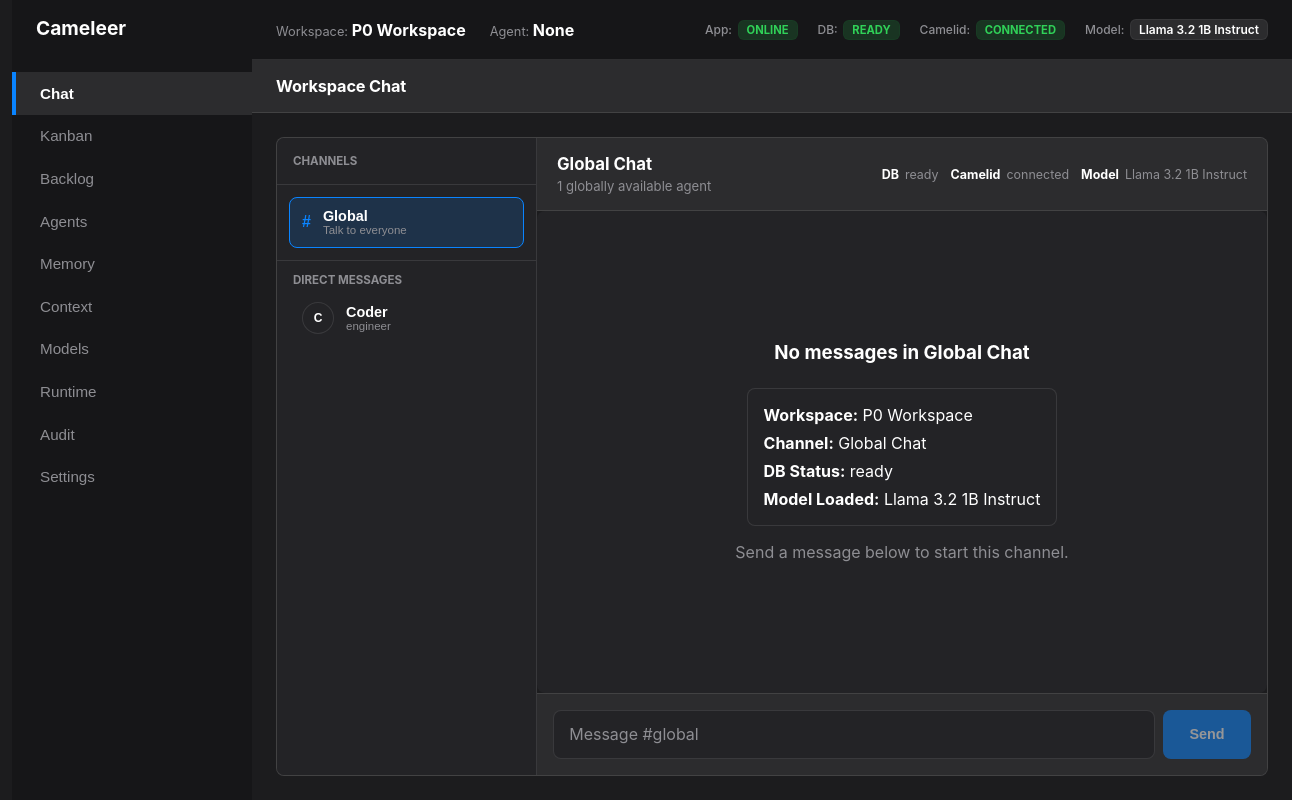
App component › renders global and direct agent chat channels
Expected: the text "Global" is shown, top-left (323, 208), bottom-right (368, 224)
Expected: the text "Talk to everyone" is shown, top-left (323, 224), bottom-right (407, 236)
Click the button "C Coder engineer": (406, 318) top-left (289, 291), bottom-right (524, 346)
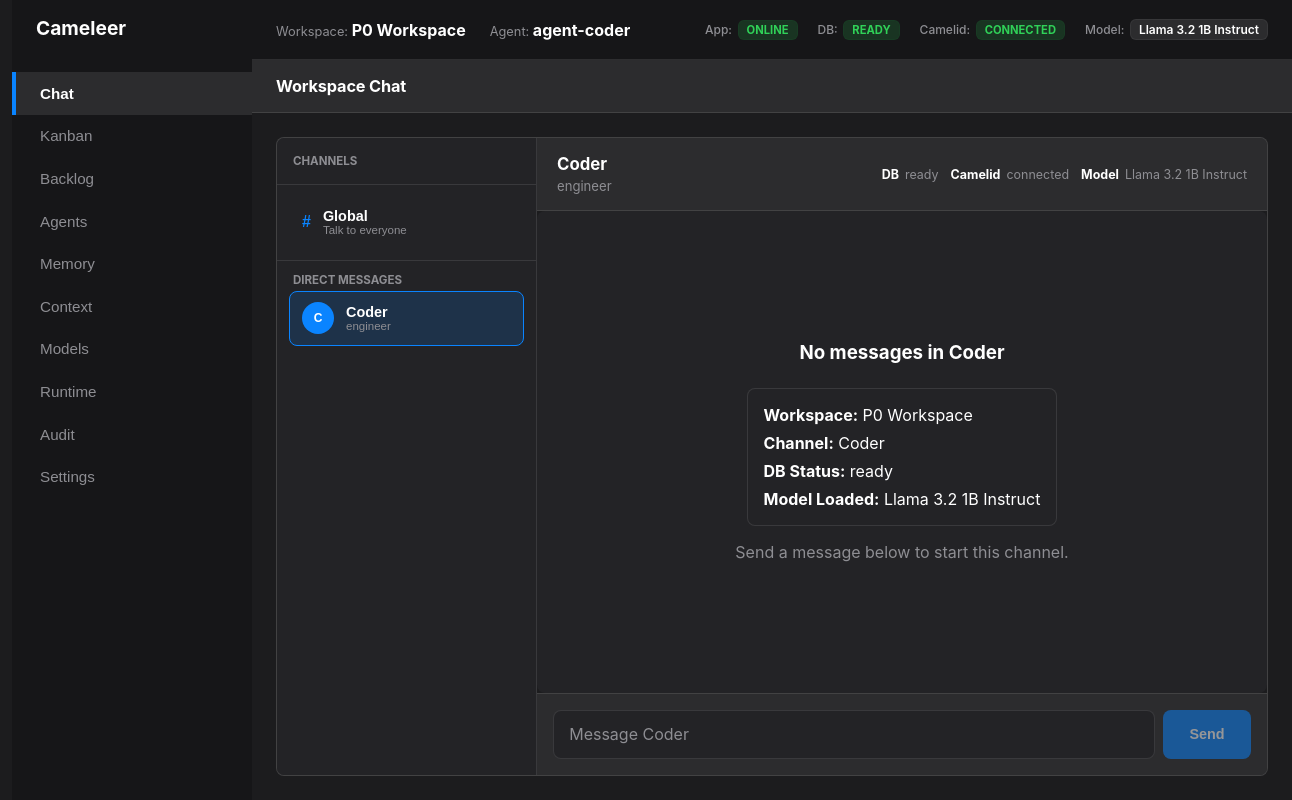
Expected: the field with placeholder "Message Coder" is shown, top-left (553, 710), bottom-right (1155, 759)
